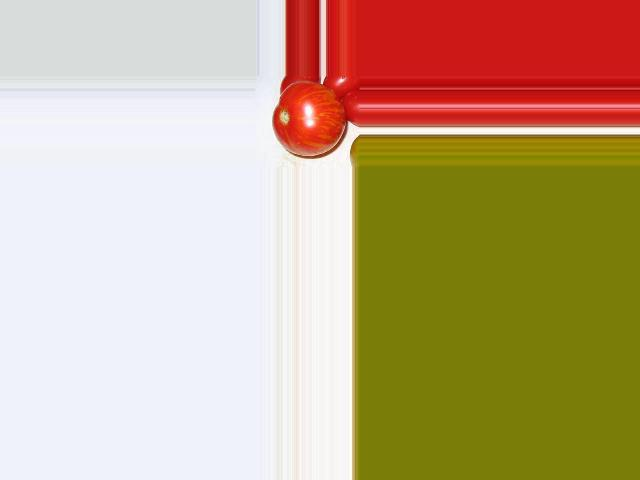tomato: (271, 80, 346, 156)
